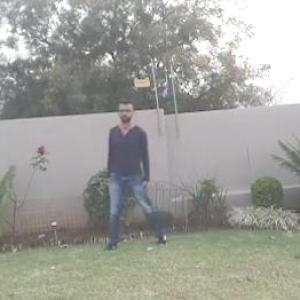follow: (113, 97, 165, 259)
